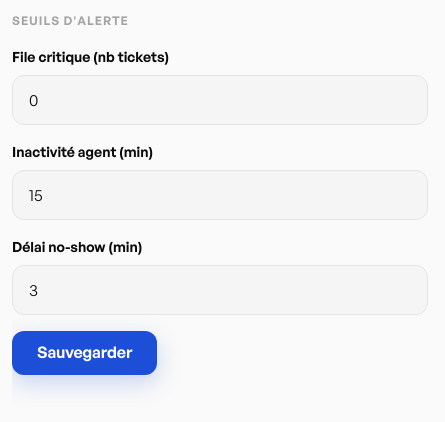
ThresholdsForm — validation inline › WEB-006: seuils MANAGER+ — file critique / inactivité / no-show validés inline (sans modale)
Click the button with test id "thresholds-submit". click: point(85, 353)
box: [12, 331, 157, 375]
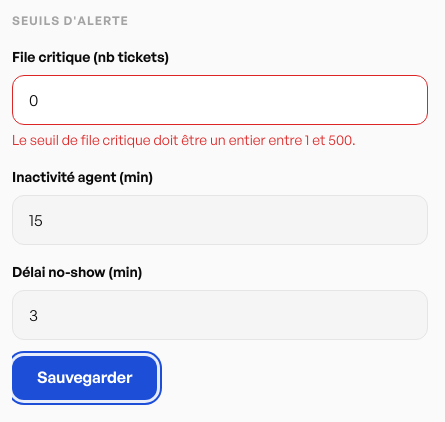
Check: the message "Le seuil de file critique doit être un entier entre 1 et 500." is shown, box [12, 131, 356, 148]
